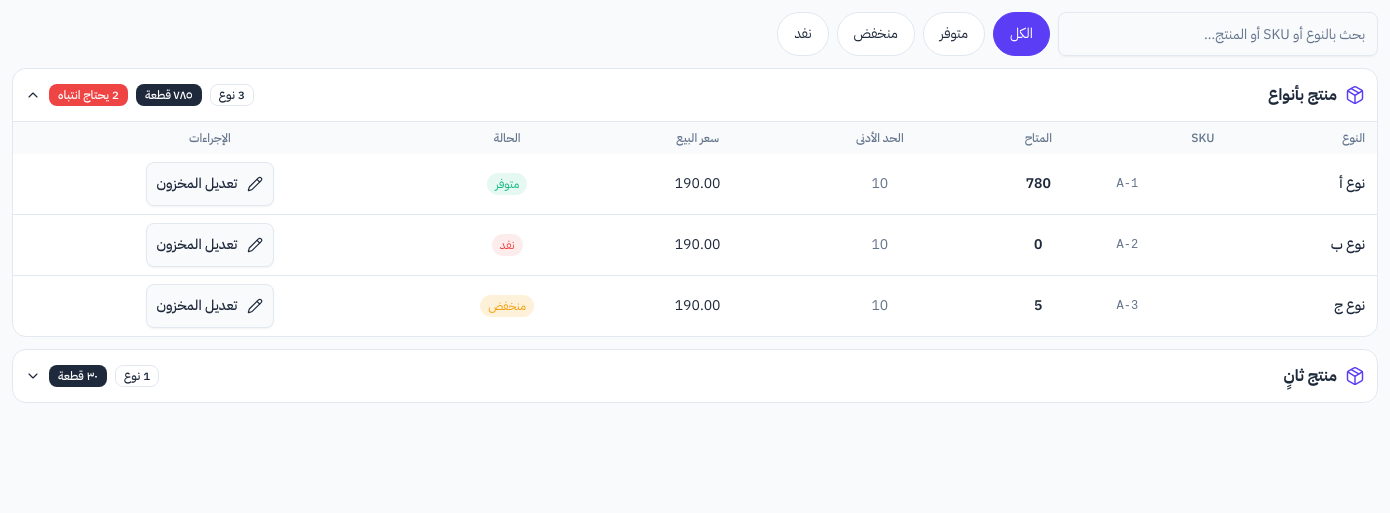
it: 🔑 المخزون حسب المنتج › 🔑 Accordion لكل منتج، الأعمدة السبعة على الديسكتوب، وكروت على الموبايل، والأرقام كما هي
Check: the element with test id "vg-product-10" is shown, box left=12, top=68, right=1378, bottom=337
Check: the column heading "النوع" is shown, box left=1227, top=122, right=1377, bottom=154
Step 1. Click the button with test id "vg-toggle-11" → coordinates (1310, 376), box left=13, top=350, right=1377, bottom=402
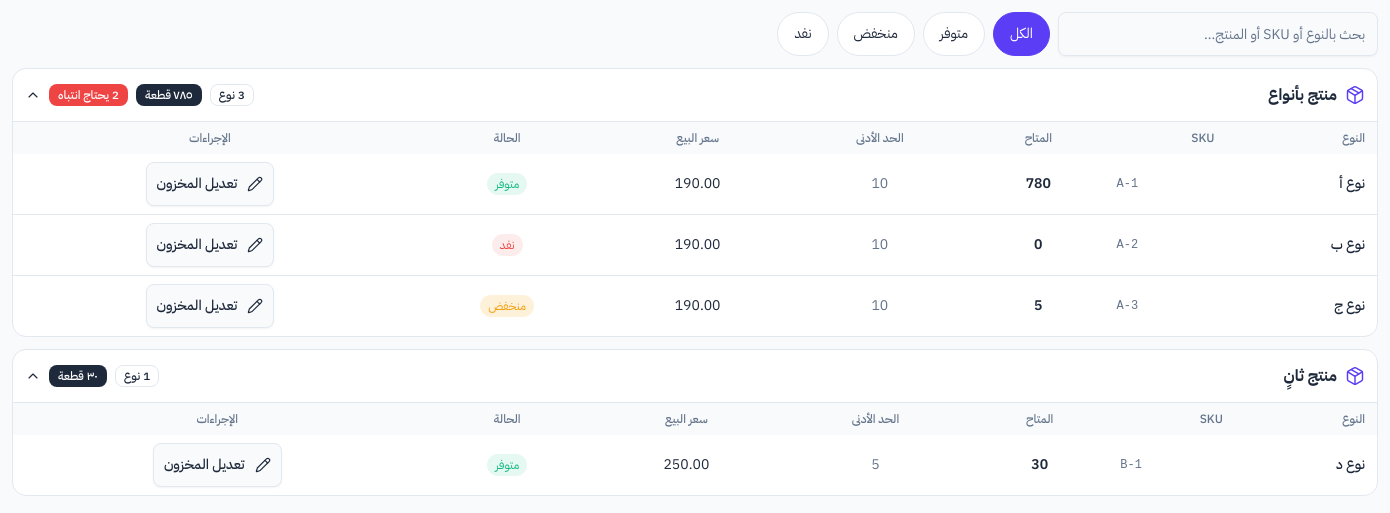
Check: the row with test id "vg-row-4" is shown, box left=13, top=435, right=1377, bottom=495
